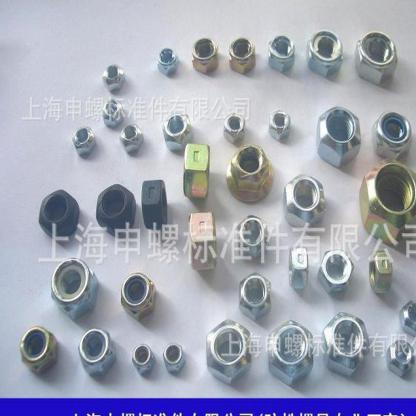FOD: (361, 158, 415, 255), (264, 318, 315, 386), (321, 312, 371, 380), (204, 318, 253, 386), (48, 258, 100, 321), (315, 104, 365, 168), (226, 143, 274, 206), (282, 173, 327, 230), (93, 184, 139, 239), (356, 26, 398, 84), (36, 189, 80, 244), (17, 323, 59, 380), (315, 246, 356, 298), (76, 327, 116, 380), (118, 269, 157, 321), (305, 27, 344, 77), (188, 208, 218, 272), (238, 272, 276, 322), (180, 140, 210, 201), (141, 178, 170, 233), (367, 250, 398, 298), (286, 240, 310, 296), (190, 33, 220, 77), (267, 31, 296, 75), (228, 34, 258, 76), (162, 113, 193, 151), (386, 340, 415, 380), (129, 343, 157, 379), (161, 341, 188, 377), (267, 107, 293, 142), (72, 122, 96, 156), (224, 109, 248, 142), (118, 122, 142, 153), (154, 46, 178, 76)
